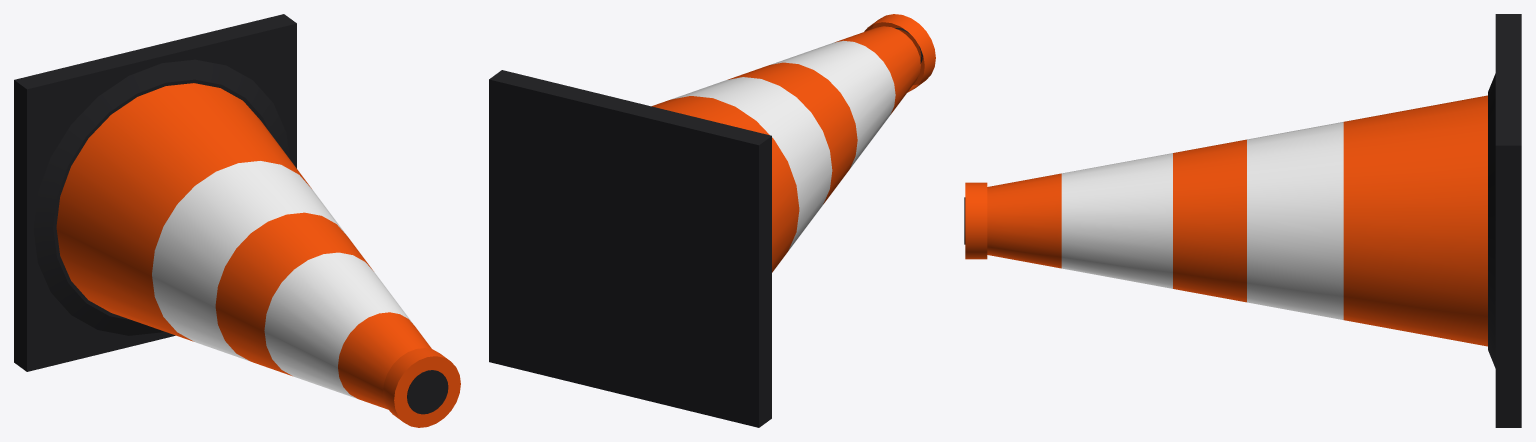
The model's file is SM_Cono_Obra_75.obj.
3 renders of one model, left to right at view 1: azimuth 30°, elevation 25°; view 2: azimuth 150°, elevation 25°; view 3: azimuth 270°, elevation 25°, orthographic.
Visible parts, largest first — view 1: SM_Cono_Obra_75; view 2: SM_Cono_Obra_75; view 3: SM_Cono_Obra_75.
Boxes of the visible parts, <box> form: SM_Cono_Obra_75: <box>14,14,460,427</box>; SM_Cono_Obra_75: <box>489,14,935,427</box>; SM_Cono_Obra_75: <box>964,14,1521,427</box>.
Bounding box in the file's own units: 42 × 42 × 75.1.
